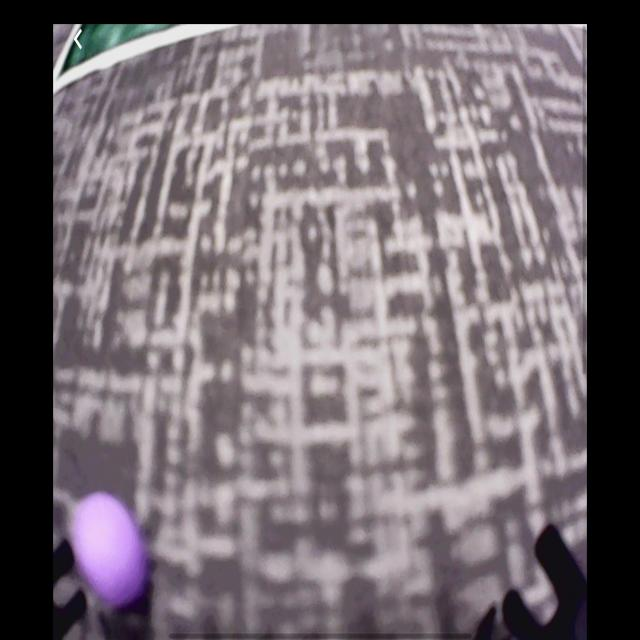ball: (73, 492, 147, 609)
